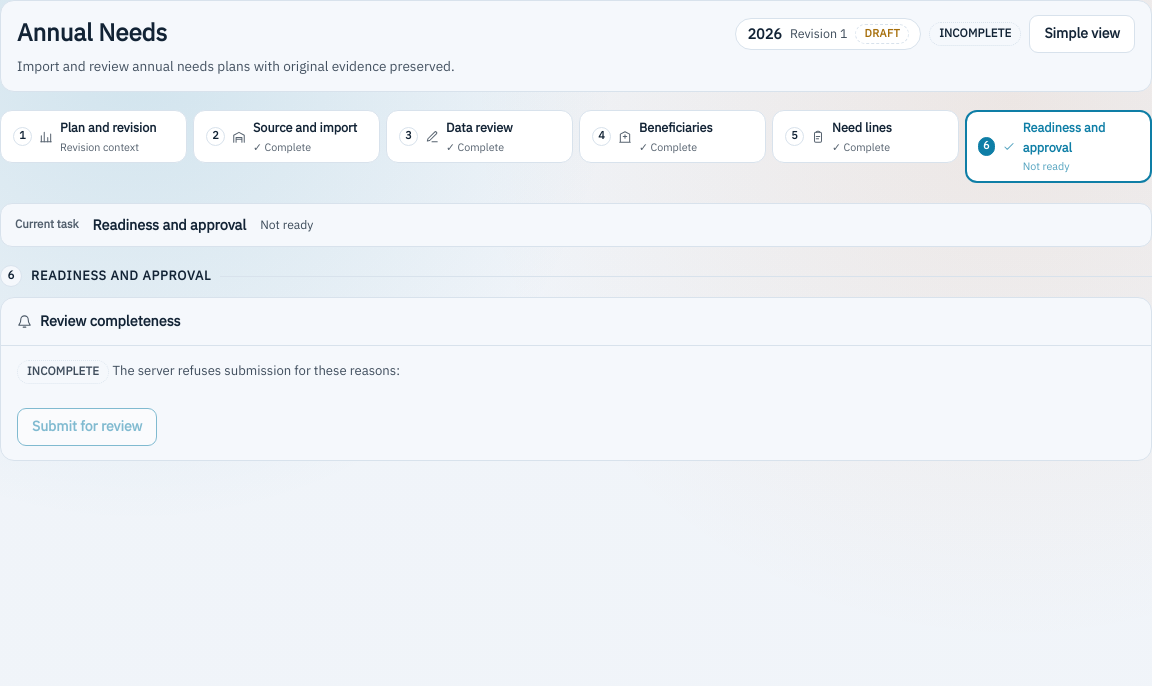
Test: UX-2A — the review filter is client-only › says so, rather than showing an empty table, when a filter matches nothing
Click the button "3 Data review ✓ Complete" at [480, 137], box [386,110,573,164]
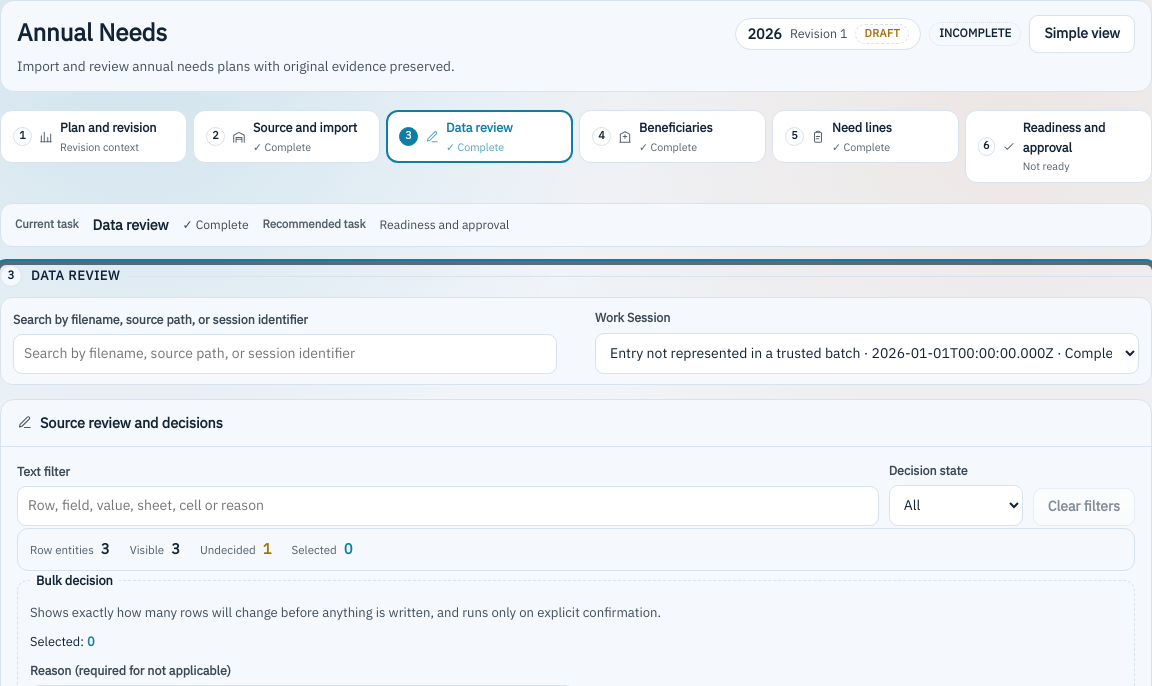
Type "no-such-material" into the search field labelled "Text filter" at [448, 506], box [17,486,879,526]
(page scrolled)
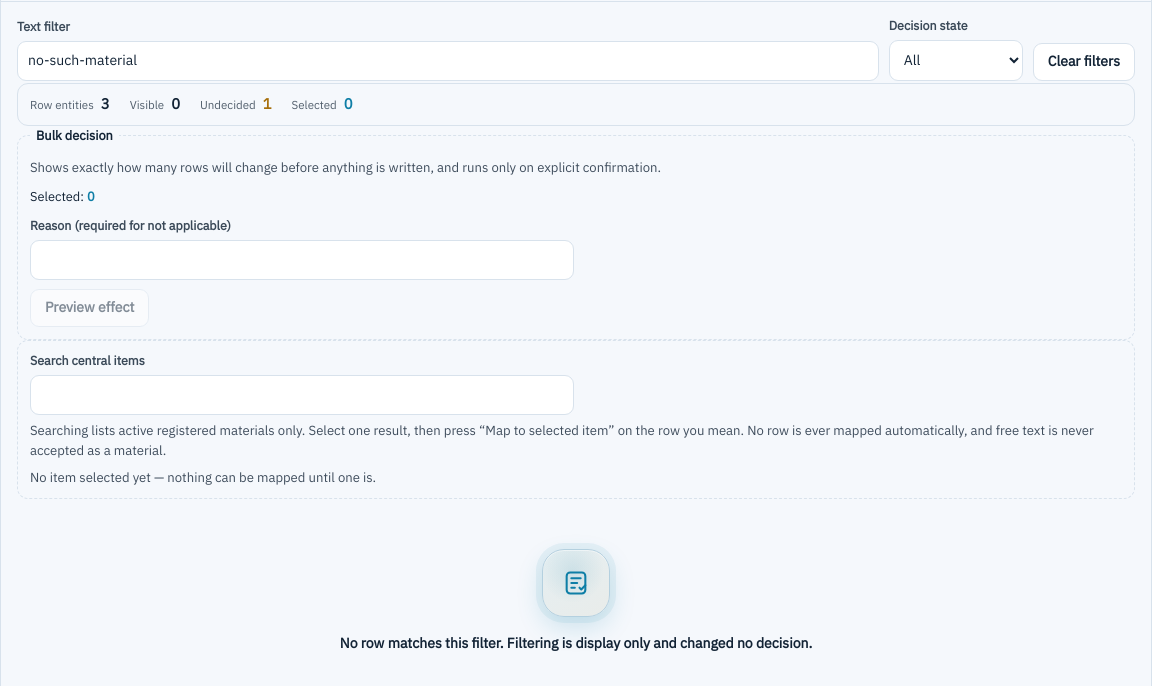
Now the text "No row matches this filter. Filtering is display only and changed no decision." is shown, box [340,633,812,654]
